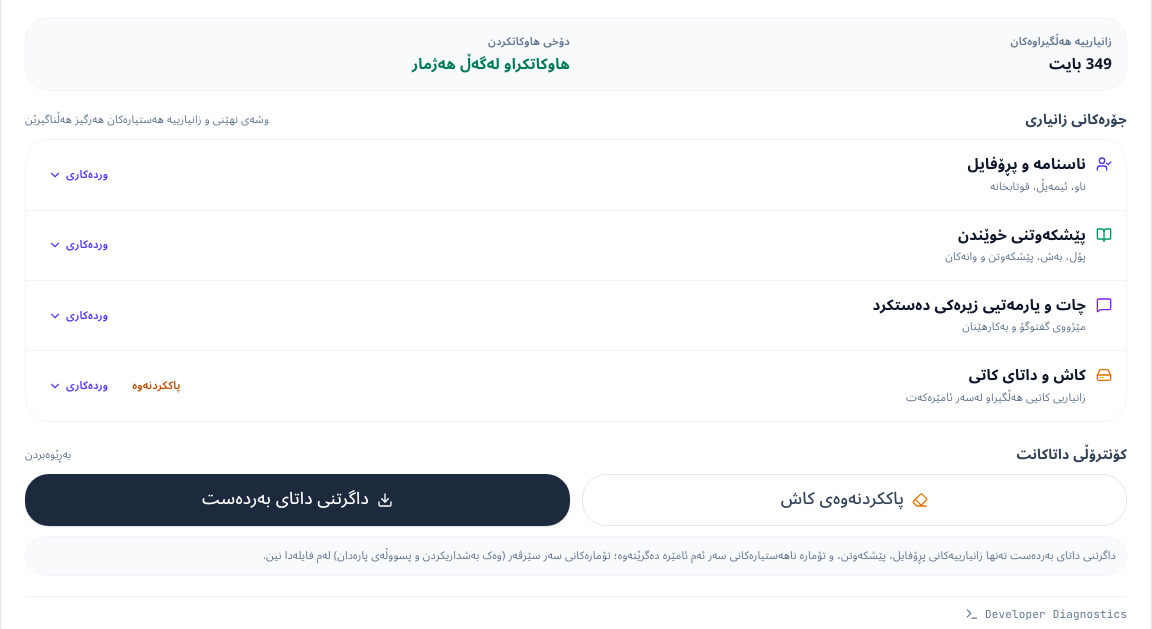
it: ProfileAndSettings - Data Usage & Privacy Section › exposes Developer Diagnostics only when authorized admin/developer flag is explicitly enabled
What coordinates should you click on to do the following:
click the button "Developer Diagnostics"
I would click on:
 (1046, 614)
Its box is [965, 604, 1127, 624].
(page scrolled)
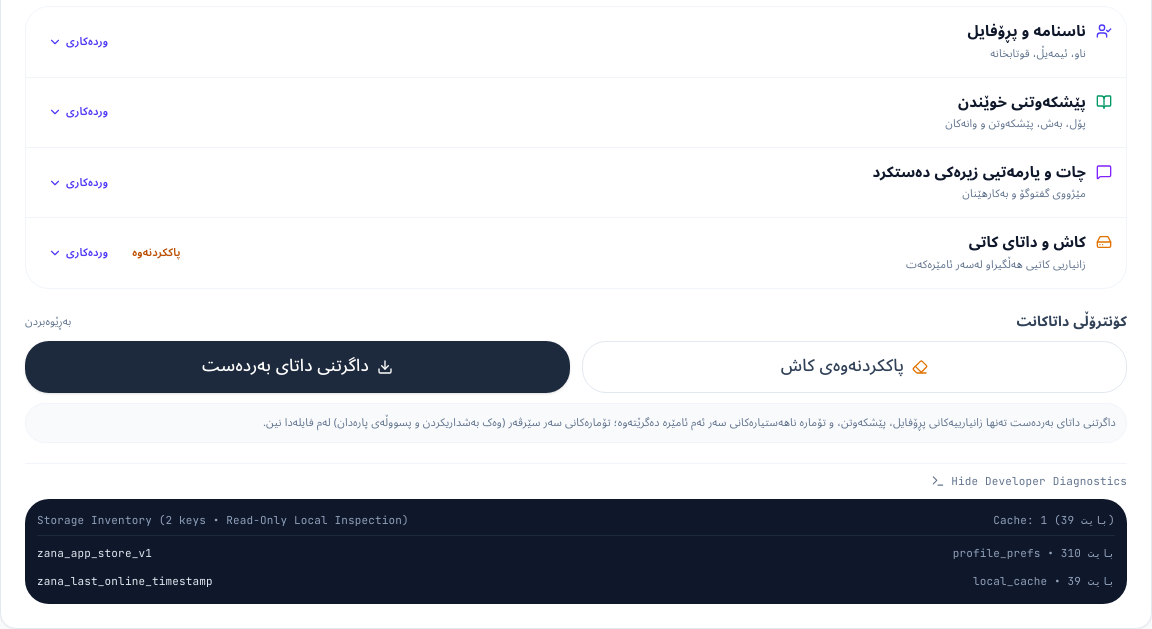
expect the text "zana_last_online_timestamp" is shown: met, box [37, 572, 213, 592]
